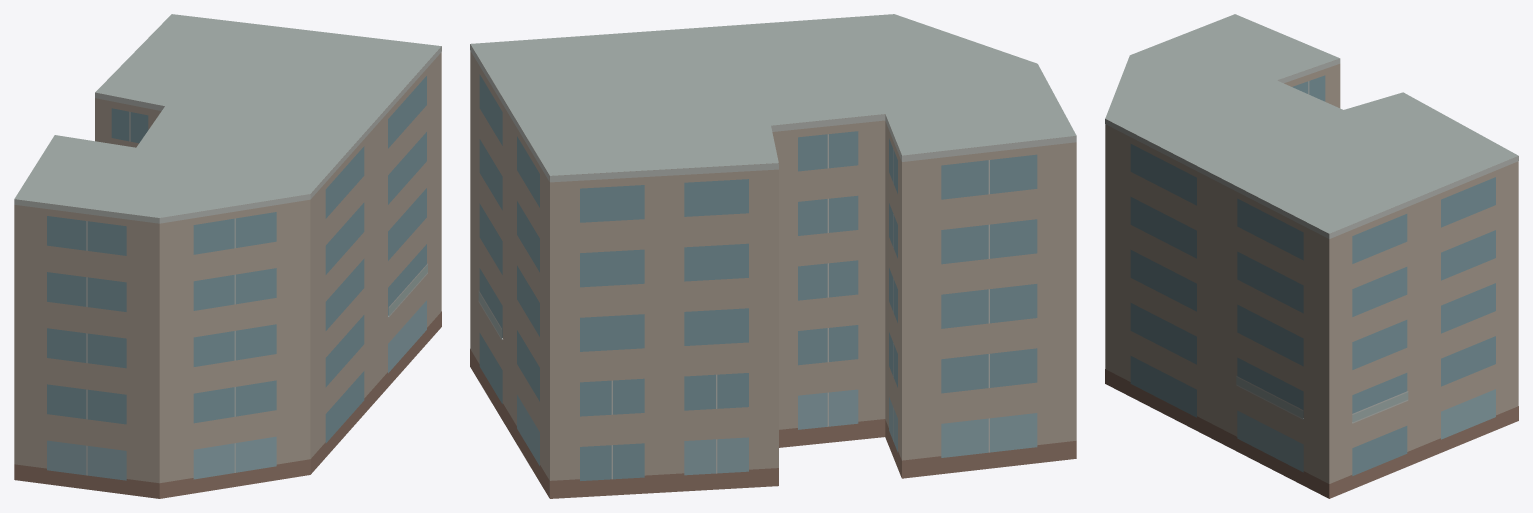
The model's file is survey-upis-32983045.glb.
The picture shows the model from 3 angles, left to right: view 1: azimuth 30°, elevation 25°; view 2: azimuth 150°, elevation 25°; view 3: azimuth 270°, elevation 25°; orthographic projection. The views are drawn at different scales.
Parts seen in each view (by area): view 1: survey-upis-32983045.tmp; view 2: survey-upis-32983045.tmp; view 3: survey-upis-32983045.tmp.
Boxes of the visible parts, box(x1,y1,x2,y2) form: survey-upis-32983045.tmp: box(14, 14, 441, 498); survey-upis-32983045.tmp: box(470, 14, 1076, 498); survey-upis-32983045.tmp: box(1105, 14, 1518, 498).
Bounding box in the file's own units: 21.62 × 12.15 × 17.19.
